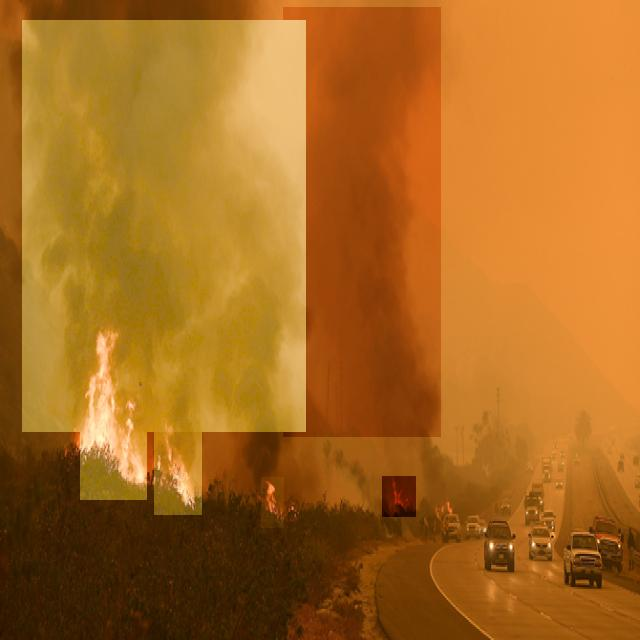Fire: (80, 310, 147, 500), (154, 418, 202, 515), (382, 476, 416, 517), (261, 477, 284, 528)
Smoke: (22, 20, 306, 432), (284, 8, 442, 438)
